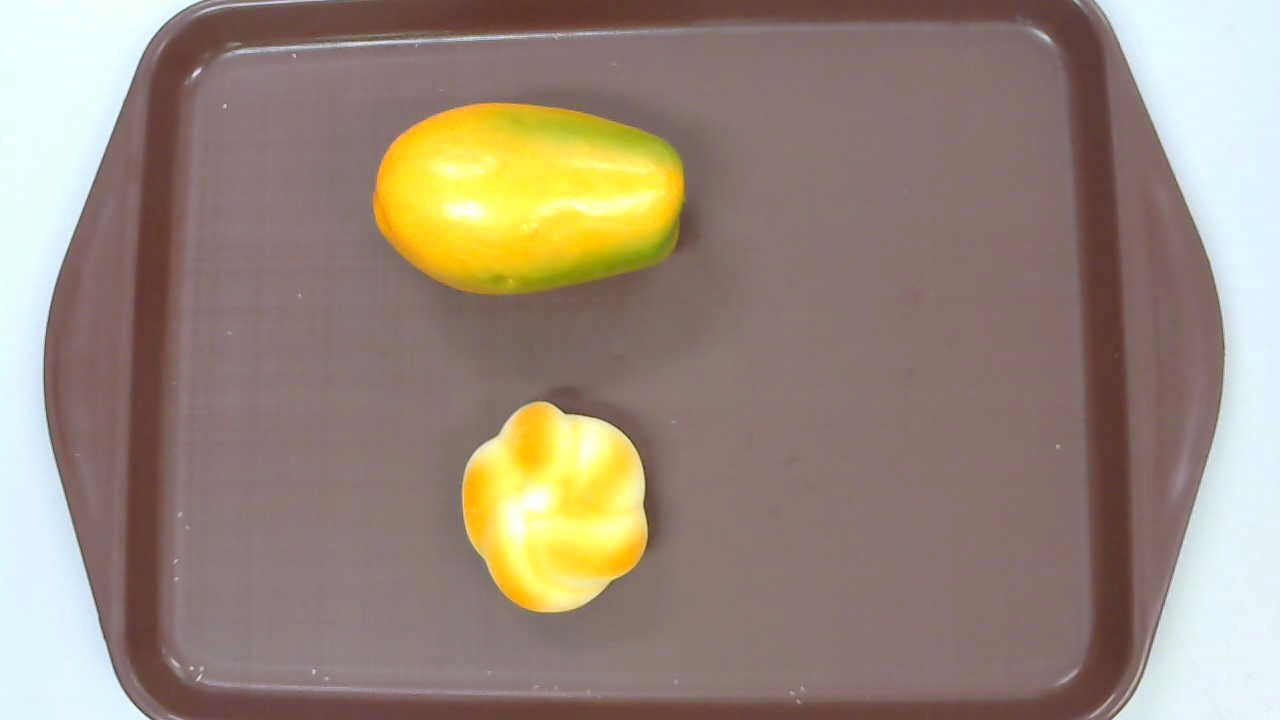papya: (372, 103, 687, 297)
twist bread: (462, 402, 648, 613)
